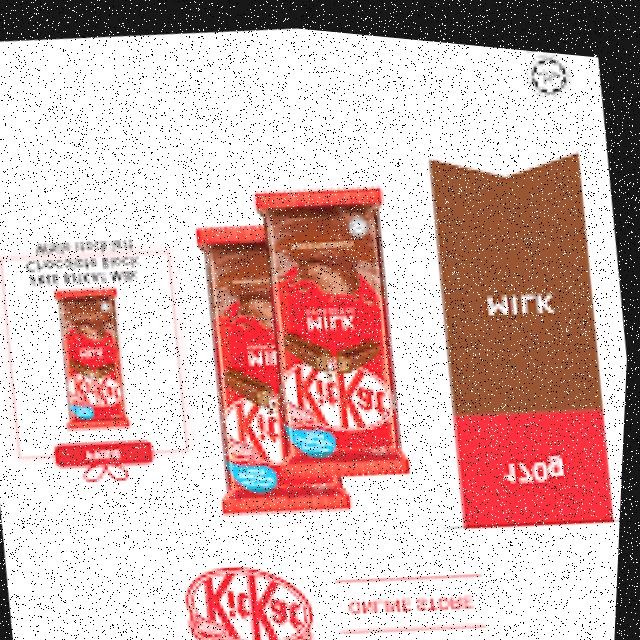kitkat: (189, 204, 372, 522), (248, 173, 426, 489)
